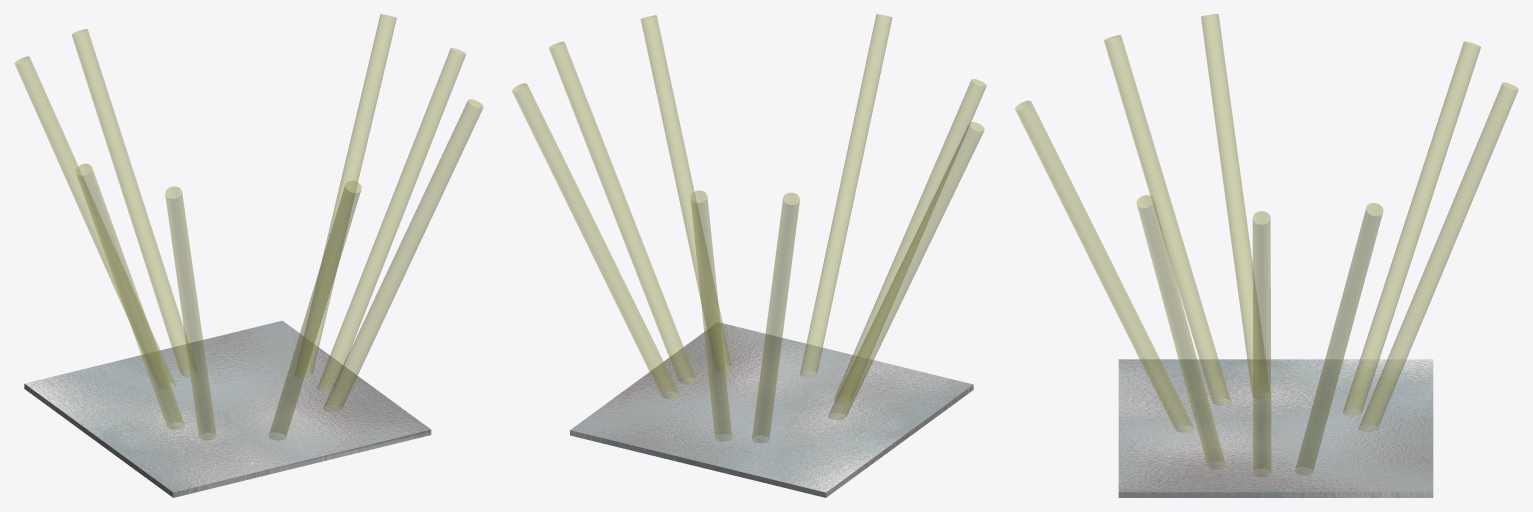
File: Frosted_glass reflect.fbx
The picture shows the model from 3 angles, left to right: view 1: azimuth 30°, elevation 25°; view 2: azimuth 150°, elevation 25°; view 3: azimuth 270°, elevation 25°; orthographic projection. The views are drawn at different scales.
Parts seen in each view (by area): view 1: Frosted_glass1, light_reflect7, light_reflect3, light_reflect5, light_reflect9, light_reflect10, light_reflect6, light_reflect4, light_reflect8; view 2: Frosted_glass1, light_reflect5, light_reflect4, light_reflect10, light_reflect7, light_reflect8, light_reflect6, light_reflect9, light_reflect3; view 3: Frosted_glass1, light_reflect9, light_reflect8, light_reflect6, light_reflect4, light_reflect3, light_reflect10, light_reflect7, light_reflect5.
Boxes of the visible parts, <box> form: Frosted_glass1: <box>24,320,431,497</box>; light_reflect7: <box>295,14,396,378</box>; light_reflect3: <box>72,29,197,376</box>; light_reflect5: <box>317,48,465,392</box>; light_reflect9: <box>14,56,175,388</box>; light_reflect10: <box>323,99,483,411</box>; light_reflect6: <box>75,163,184,429</box>; light_reflect4: <box>269,180,361,440</box>; light_reflect8: <box>165,186,216,440</box>; Frosted_glass1: <box>570,322,973,497</box>; light_reflect5: <box>549,41,696,383</box>; light_reflect4: <box>800,14,892,377</box>; light_reflect10: <box>640,15,732,371</box>; light_reflect7: <box>512,83,679,398</box>; light_reflect8: <box>833,79,986,400</box>; light_reflect6: <box>828,122,984,419</box>; light_reflect9: <box>752,192,799,442</box>; light_reflect3: <box>690,190,731,441</box>; Frosted_glass1: <box>1118,359,1433,497</box>; light_reflect9: <box>1343,41,1480,416</box>; light_reflect8: <box>1104,35,1230,405</box>; light_reflect6: <box>1201,14,1269,395</box>; light_reflect4: <box>1015,100,1193,432</box>; light_reflect3: <box>1359,82,1518,431</box>; light_reflect10: <box>1136,195,1225,468</box>; light_reflect7: <box>1295,203,1383,475</box>; light_reflect5: <box>1252,211,1271,476</box>.
Size of the model in its own units: 76.82 by 56.96 by 76.8.
